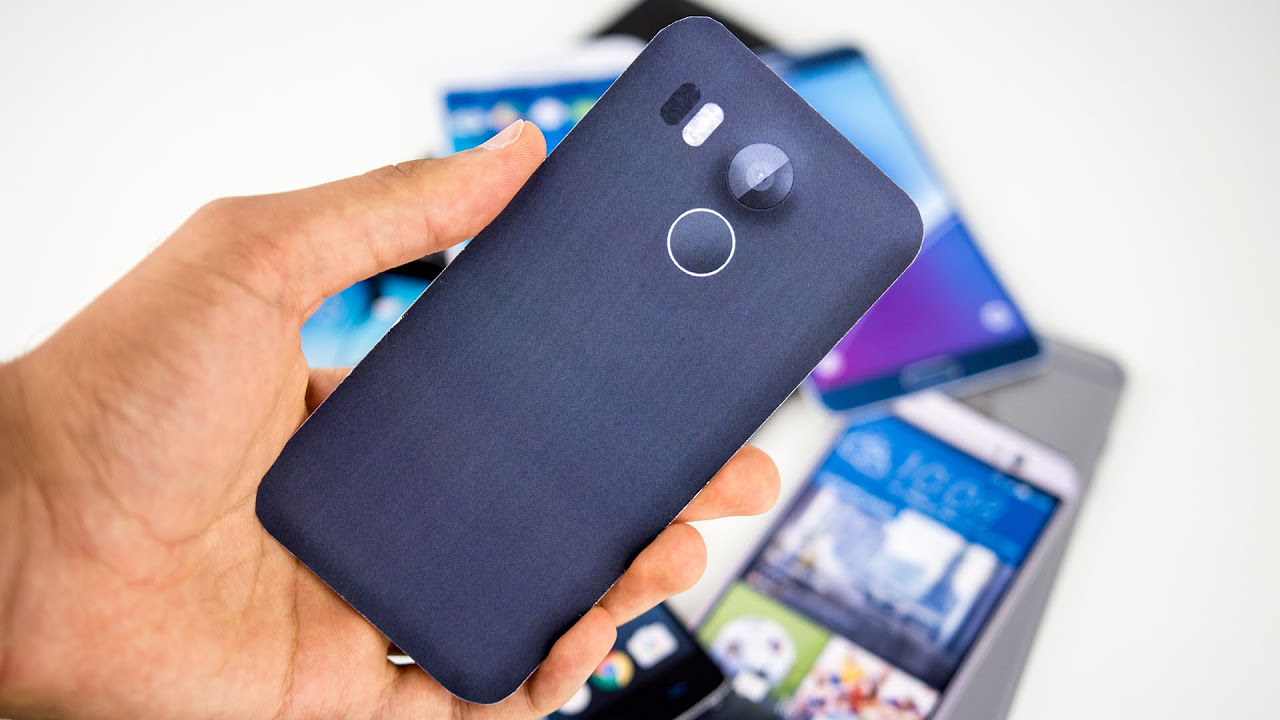smartphone: (253, 16, 923, 703)
